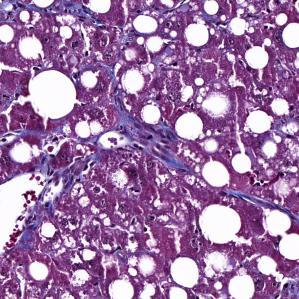fibrosis: (100, 107, 182, 164)
